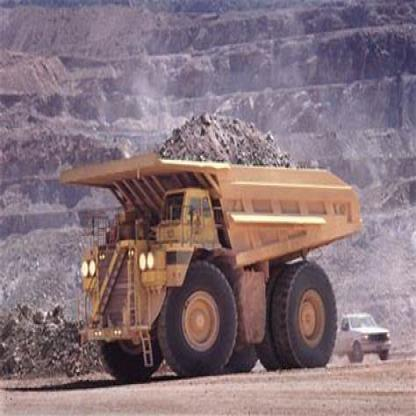dump_truck: (50, 93, 364, 393)
